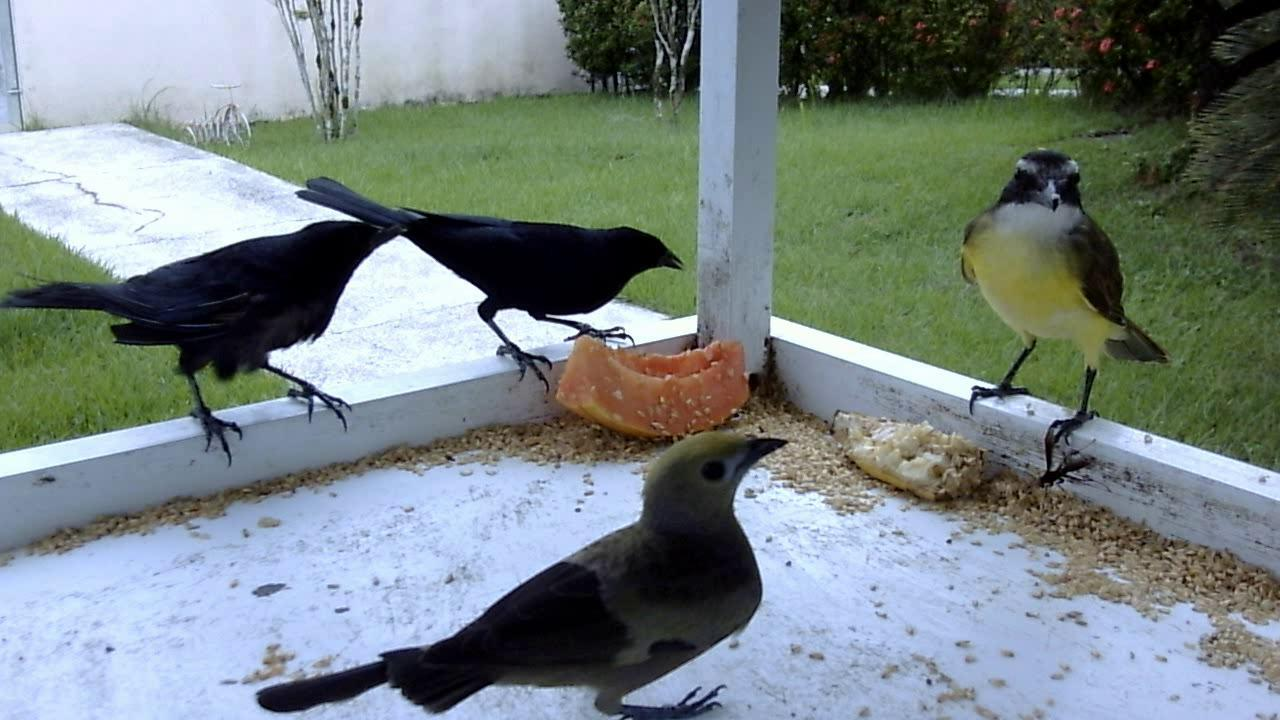bem_te_vi: (948, 138, 1180, 496)
chupim: (7, 185, 427, 480), (294, 181, 680, 414)
sanhaco_do_coqueiro: (226, 419, 799, 718)
